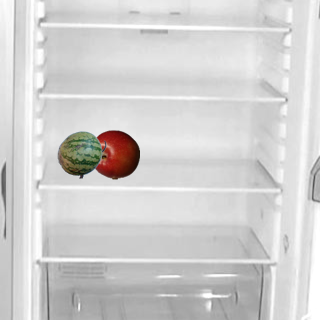Apple Braeburn: (89, 129, 139, 179)
Watermelon: (56, 129, 106, 179)
